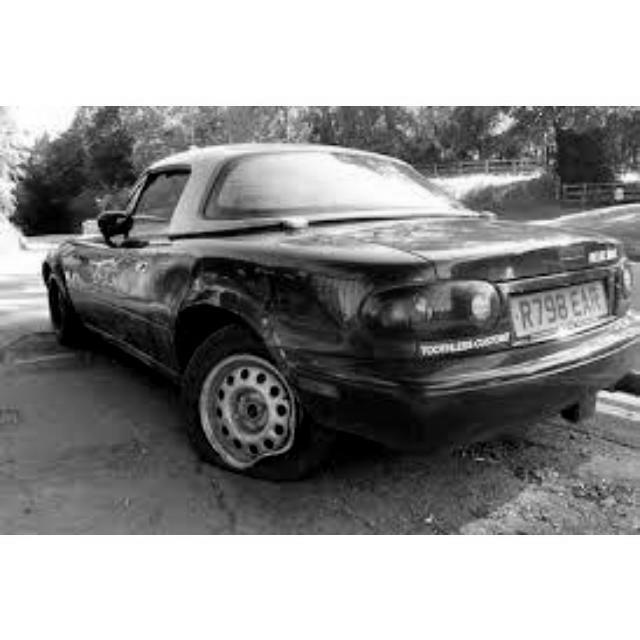quaterpanel-dent: (192, 253, 381, 360)
